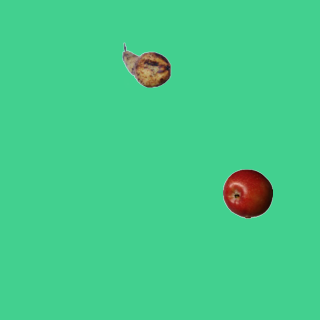Apple Braeburn: (222, 168, 272, 218)
Pear Abate: (121, 40, 171, 90)
